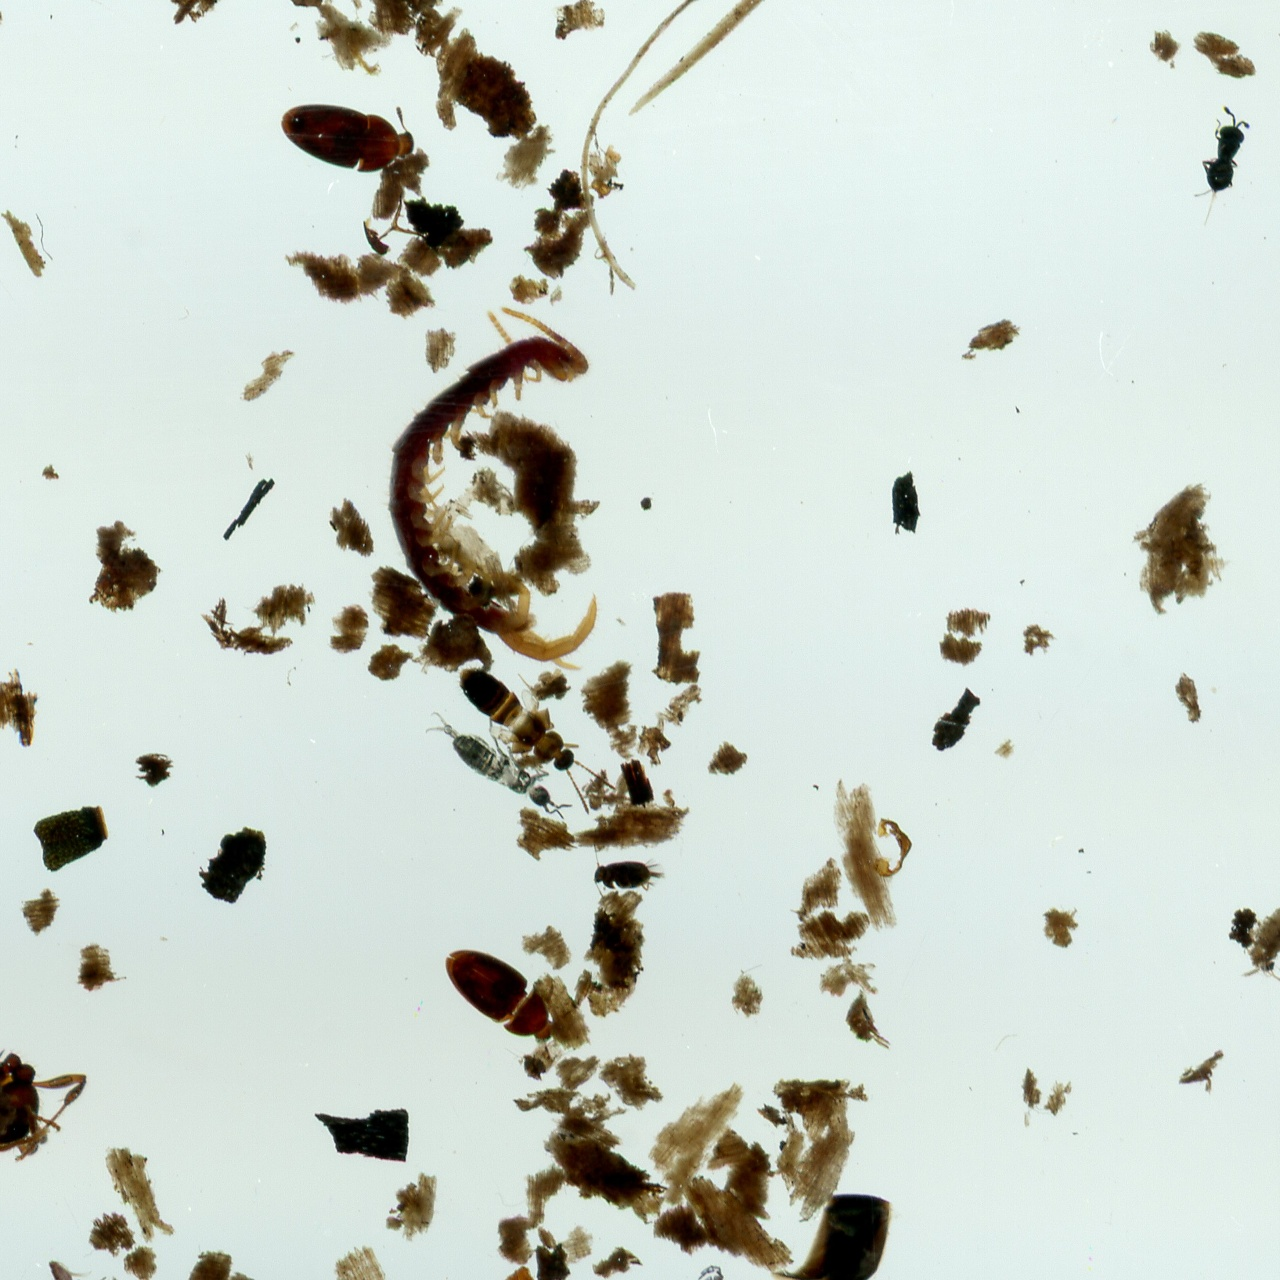arthropod: (380, 301, 606, 675), (436, 647, 634, 828), (413, 693, 579, 842), (424, 922, 579, 1072), (1180, 98, 1264, 240), (0, 1038, 90, 1165), (278, 101, 417, 177), (584, 851, 670, 904), (641, 1252, 744, 1280), (40, 1256, 105, 1280)
